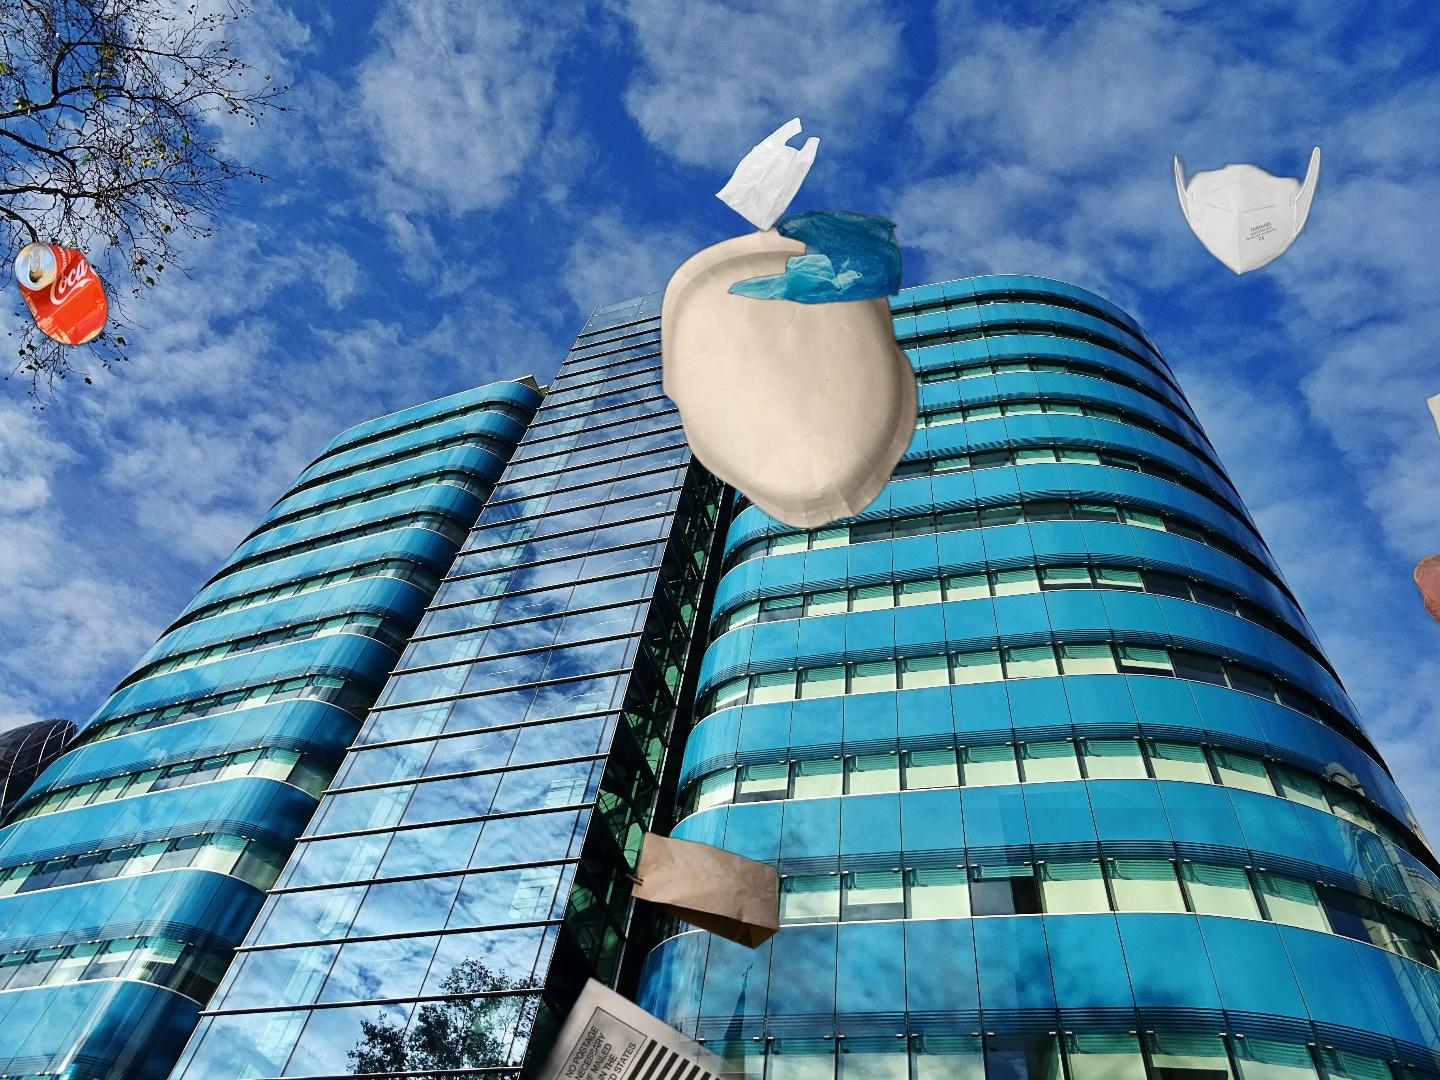metal-cans: (9, 236, 112, 352)
paper: (656, 224, 924, 533), (386, 972, 858, 1080), (1422, 223, 1440, 575)
paper-bag: (618, 824, 781, 952)
plastic-bag: (711, 23, 947, 307)
shoes: (1410, 532, 1440, 662)
trash: (1168, 143, 1324, 279)
